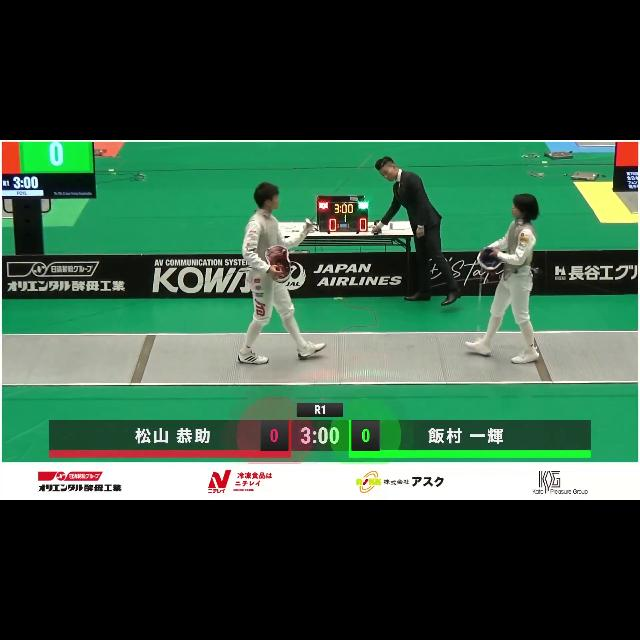blade: (304, 144, 386, 230), (475, 250, 483, 346)
